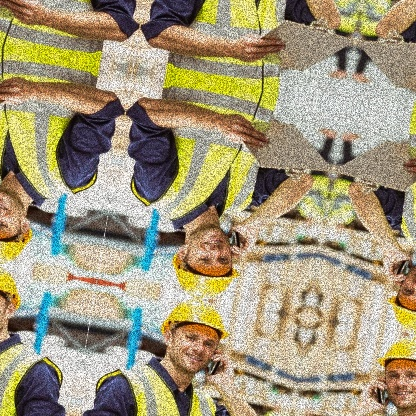vest: (123, 74, 278, 234)
yellow: (163, 251, 247, 304)
